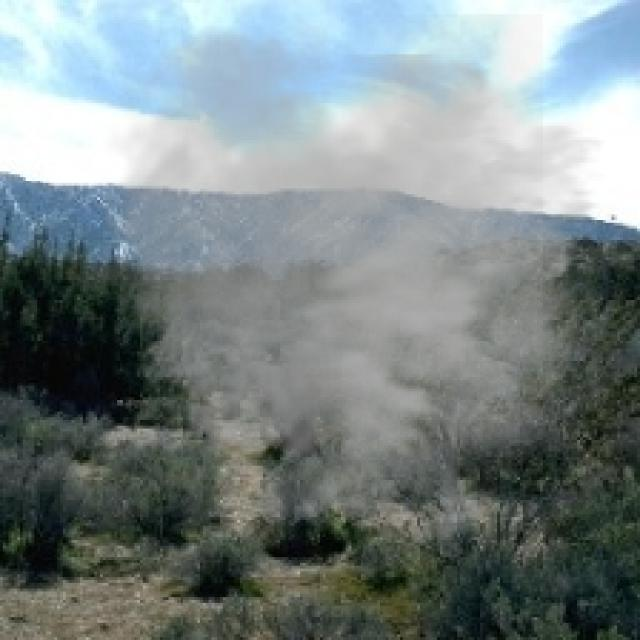smoke: (83, 14, 637, 566)
